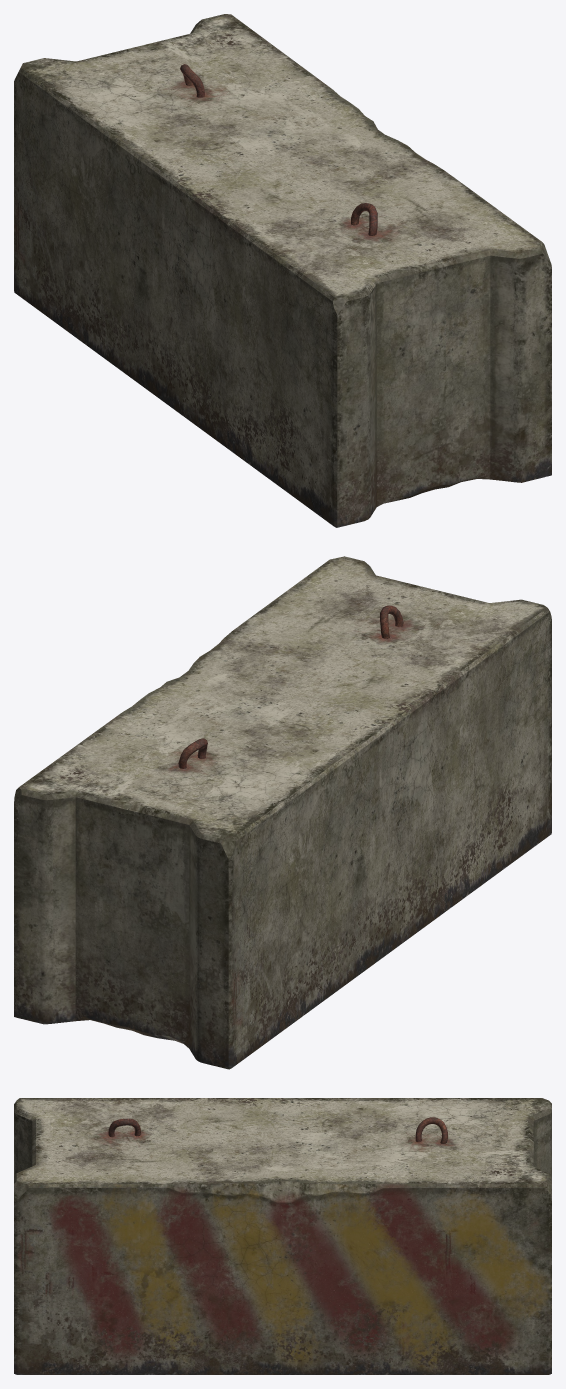
Rendered from road_block_a.obj.
3 views of the same model, one above another, from view 1: azimuth 30°, elevation 25°; view 2: azimuth 150°, elevation 25°; view 3: azimuth 270°, elevation 25° (orthographic). The views are drawn at different scales.
Parts seen in each view (by area): view 1: obj1, obj2; view 2: obj1, obj2; view 3: obj1, obj2.
Boxes of the visible parts, x1,y1,x2,y2 form: obj1: (14, 14, 551, 527); obj2: (180, 64, 377, 235); obj1: (14, 556, 551, 1069); obj2: (178, 605, 403, 768); obj1: (14, 1098, 551, 1374); obj2: (108, 1117, 447, 1143).
Size of the model in its own units: 1.73 by 1.94 by 4.46.
Materials: 2 (2 with a texture image).
